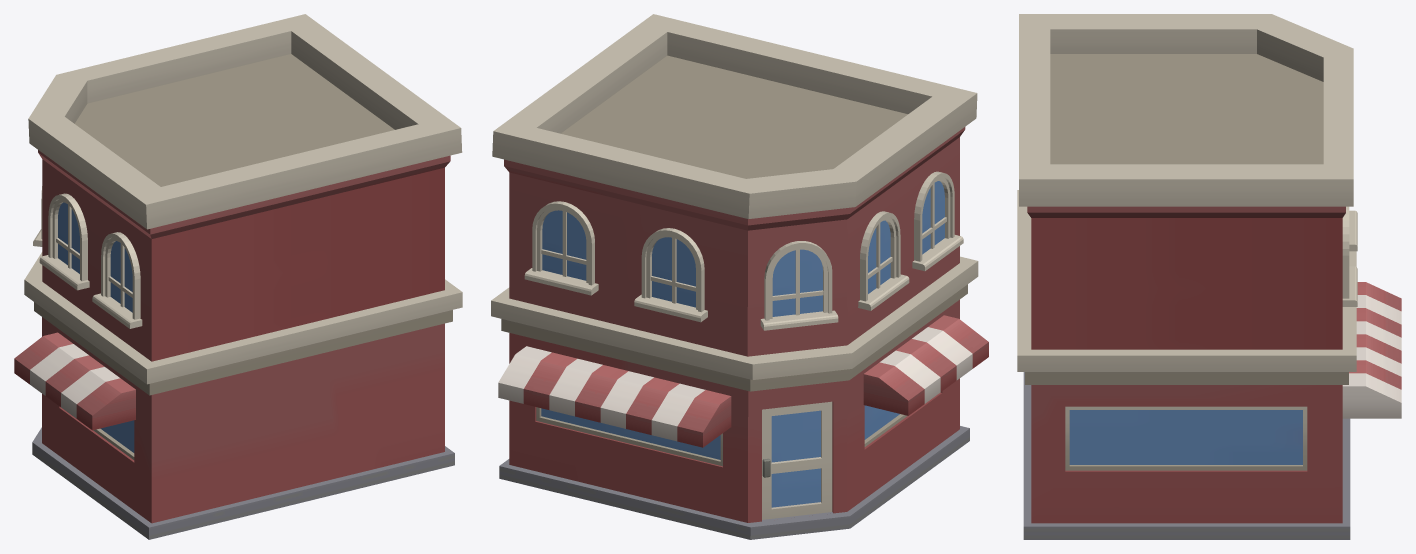
File: Shop 2.fbx
The picture shows the model from 3 angles, left to right: view 1: azimuth 30°, elevation 25°; view 2: azimuth 150°, elevation 25°; view 3: azimuth 270°, elevation 25°; orthographic projection. The views are drawn at different scales.
Visible parts, largest first — view 1: Shop2; view 2: Shop2; view 3: Shop2.
Part boxes in pixels (x1,y1,x2,y2): Shop2: (14,14,462,539); Shop2: (491,14,988,539); Shop2: (1017,14,1401,539).
Size of the model in its own units: 298 by 276 by 265.
